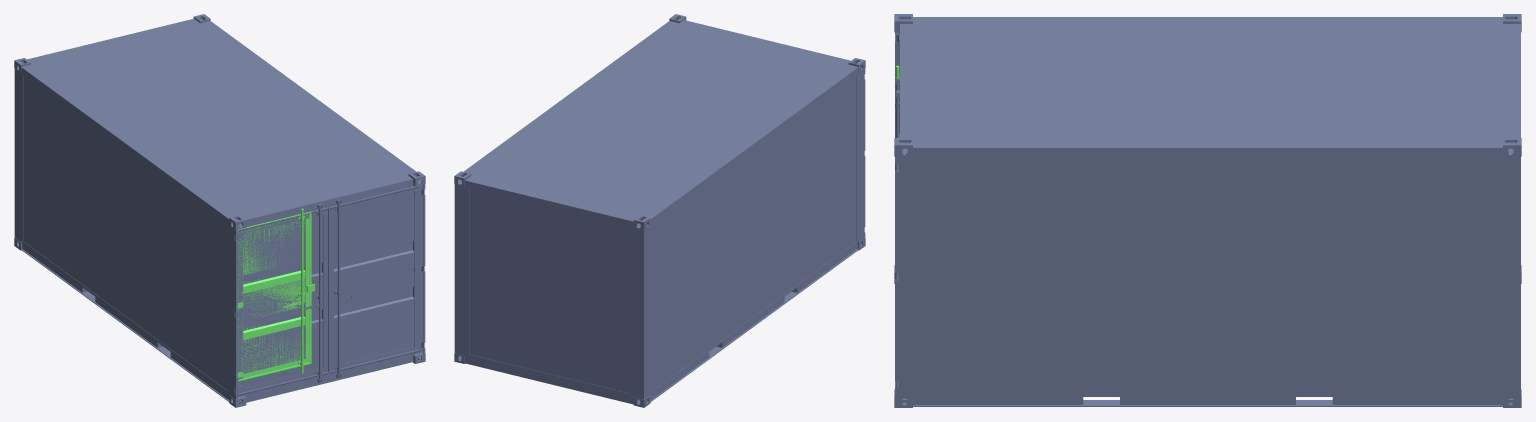
Rendered from Lagercontainer HC 2800 BC 3000.obj.
3 views of the same model, side by side, from view 1: azimuth 30°, elevation 25°; view 2: azimuth 150°, elevation 25°; view 3: azimuth 270°, elevation 25° (orthographic). The views are drawn at different scales.
Parts seen in each view (by area): view 1: |TEst_lagercon~0|Root|Test_Lagercon1~0-1|color, |TEst_lagercon~0|Root|Test_lagercon2~0-1|color-2, |TEst_lagercon~0|Root|SpiegelnTest_lagercon2~0-3|color-4, |TEst_lagercon~0|Root|Test_lagercon3~0-5|color-3; view 2: |TEst_lagercon~0|Root|Test_Lagercon1~0-1|color; view 3: |TEst_lagercon~0|Root|Test_Lagercon1~0-1|color.
Boxes of the visible parts, x1,y1,x2,y2 form: |TEst_lagercon~0|Root|Test_Lagercon1~0-1|color: (14,14,425,407); |TEst_lagercon~0|Root|Test_lagercon2~0-1|color-2: (328,185,424,378); |TEst_lagercon~0|Root|SpiegelnTest_lagercon2~0-3|color-4: (235,204,328,395); |TEst_lagercon~0|Root|Test_lagercon3~0-5|color-3: (237,208,314,381); |TEst_lagercon~0|Root|Test_Lagercon1~0-1|color: (454,14,865,407); |TEst_lagercon~0|Root|Test_Lagercon1~0-1|color: (894,14,1521,407).
Bounding box in the file's own units: 3 × 2.8 × 6.06.
